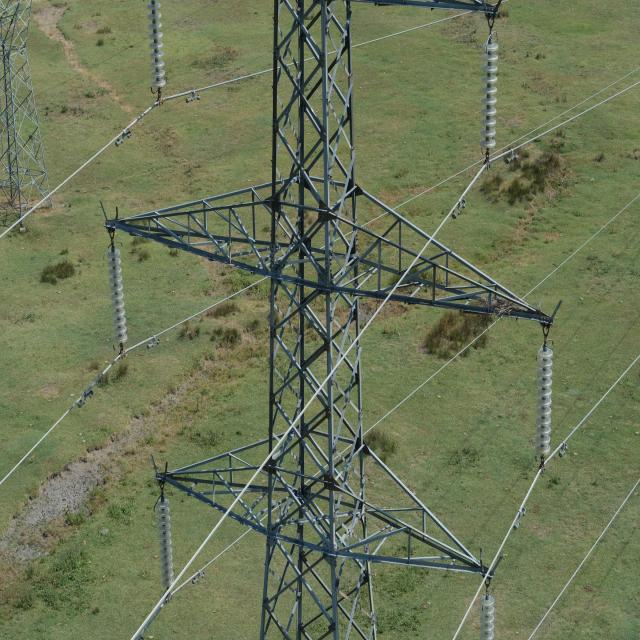voltage_line: (159, 16, 495, 635), (5, 3, 53, 235)
